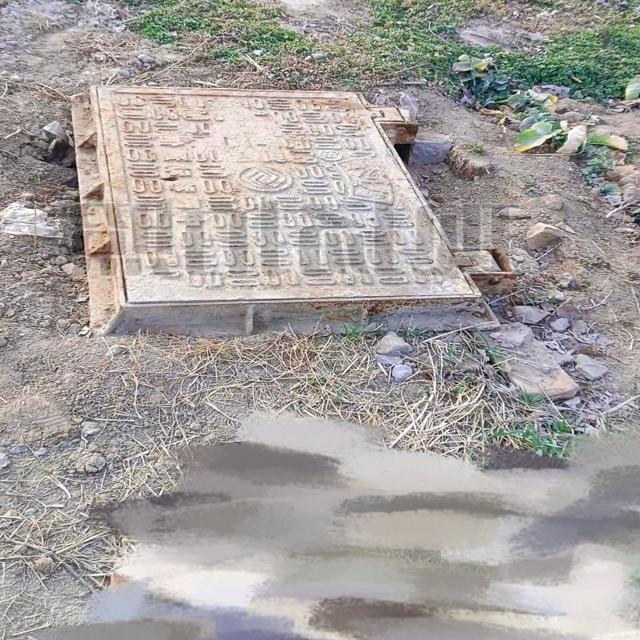circle: (56, 77, 517, 342)
